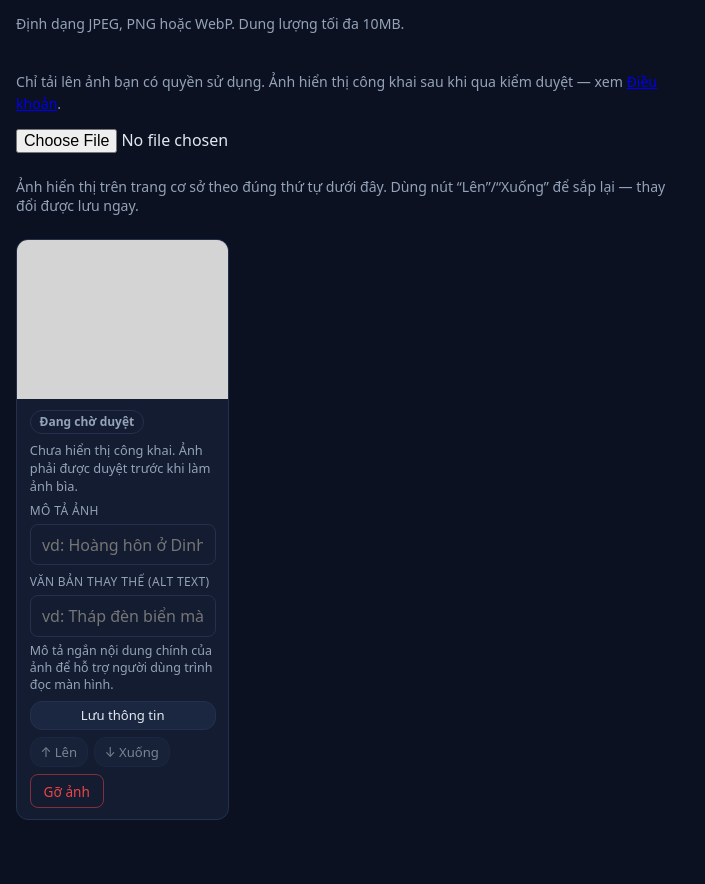
PhotosView — gỡ ảnh › gỡ thất bại → hiện lỗi, ảnh vẫn còn
(page scrolled)
Click the button "Gỡ ảnh": click(67, 791) 30,774 -> 104,808
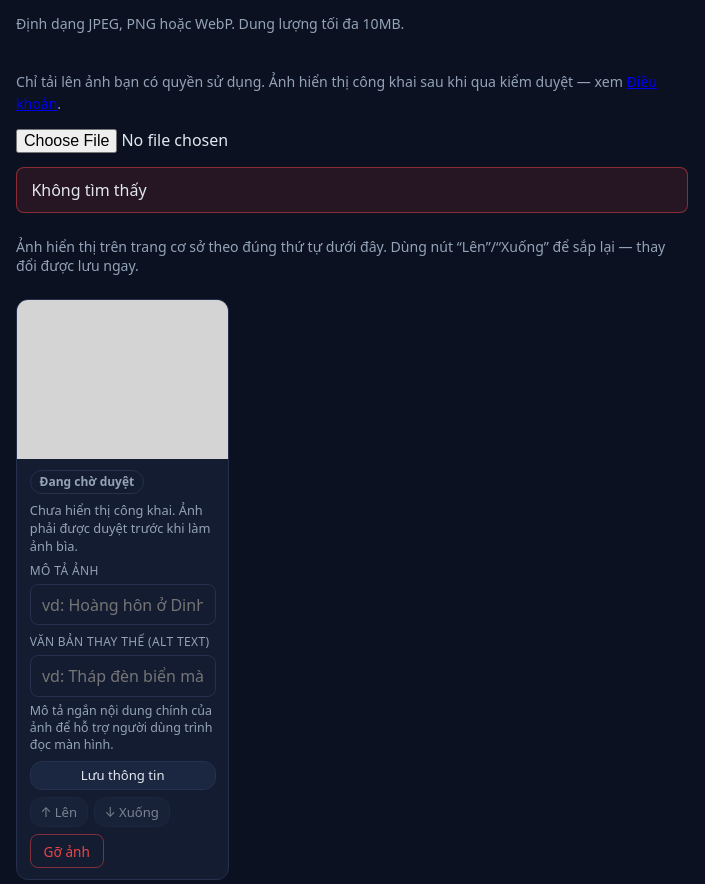
Check: the message "Không tìm thấy" is shown, box 16,167 -> 688,213
